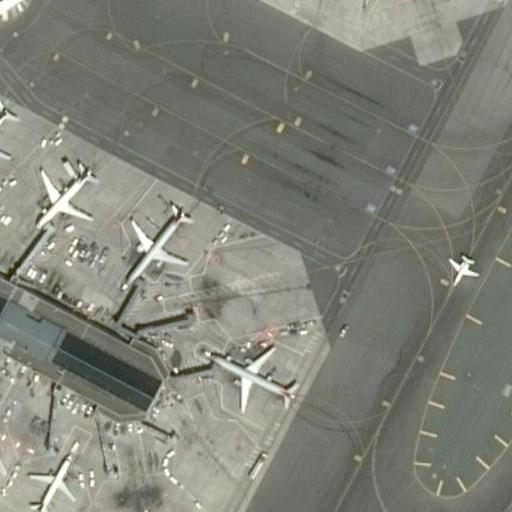Aircraft: (209, 334, 300, 413), (119, 197, 190, 286), (22, 441, 85, 512), (34, 156, 92, 232), (444, 249, 481, 286), (0, 94, 17, 173), (0, 373, 9, 495)
